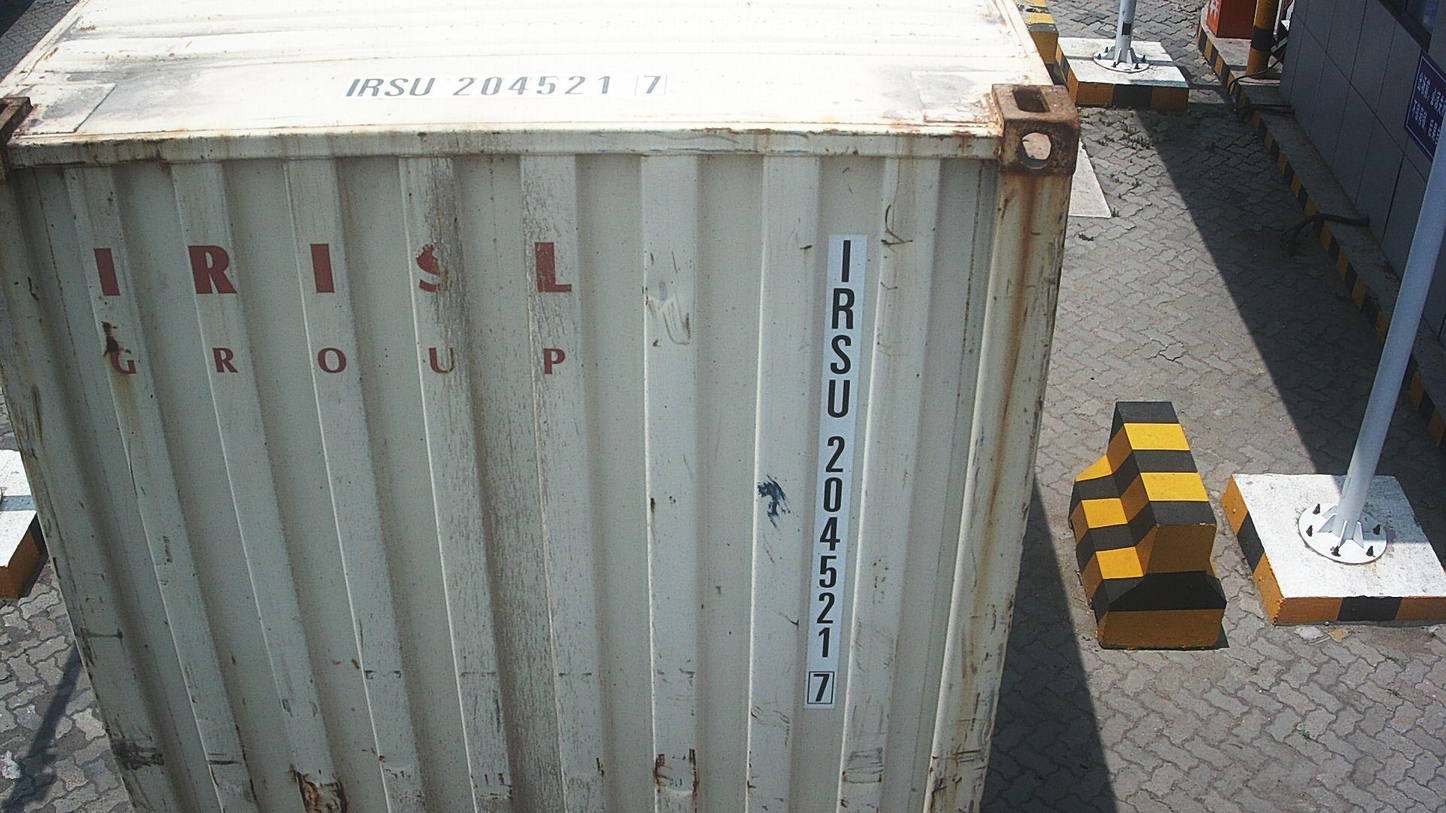container-numbers: (798, 231, 867, 713), (332, 71, 675, 104)
